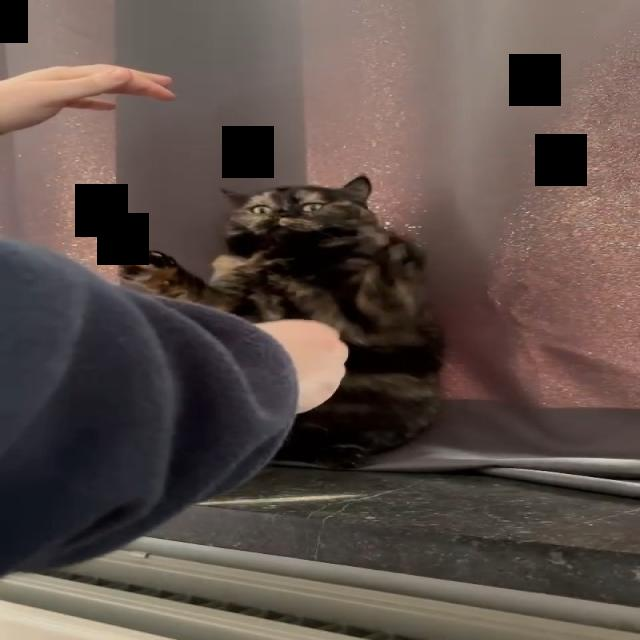authorized: (117, 175, 447, 470)
